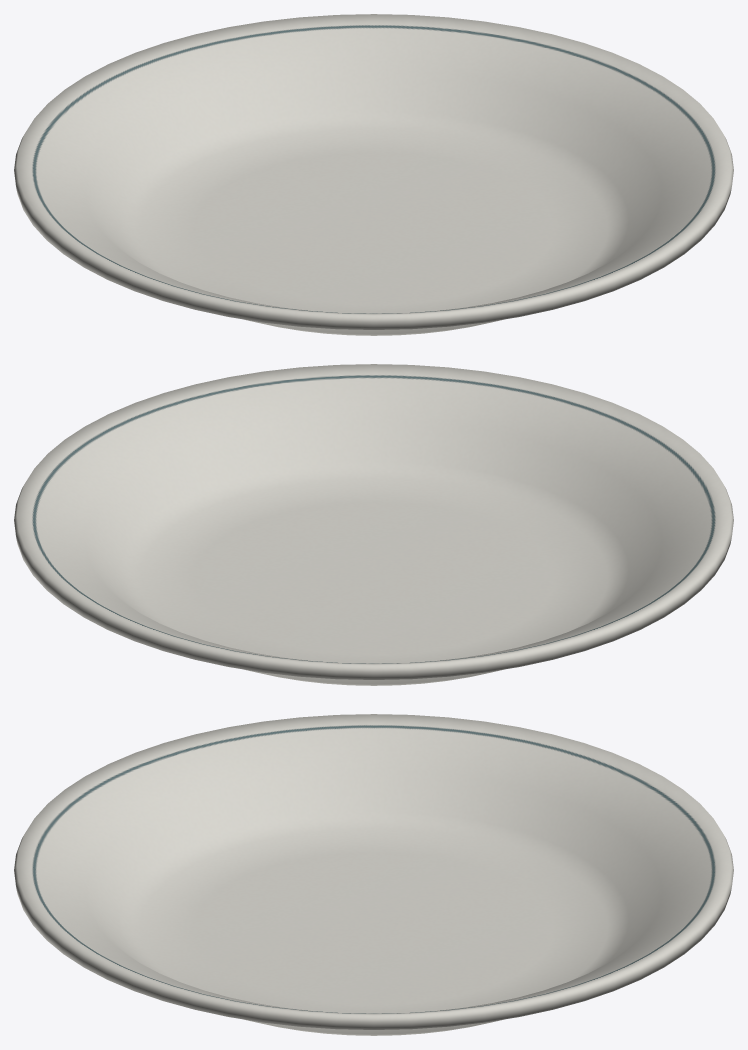
The model's file is PlateContainer_LOD0.fbx.
3 renders of one model, top to bottom at view 1: azimuth 30°, elevation 25°; view 2: azimuth 150°, elevation 25°; view 3: azimuth 270°, elevation 25°, orthographic.
Parts seen in each view (by area): view 1: Body_LOD0; view 2: Body_LOD0; view 3: Body_LOD0.
Part boxes in pixels (x1=…): Body_LOD0: x1=14, y1=14, x2=733, y2=335; Body_LOD0: x1=14, y1=364, x2=733, y2=685; Body_LOD0: x1=14, y1=714, x2=733, y2=1035.
Size of the model in its own units: 0.24 by 0.032 by 0.24.
